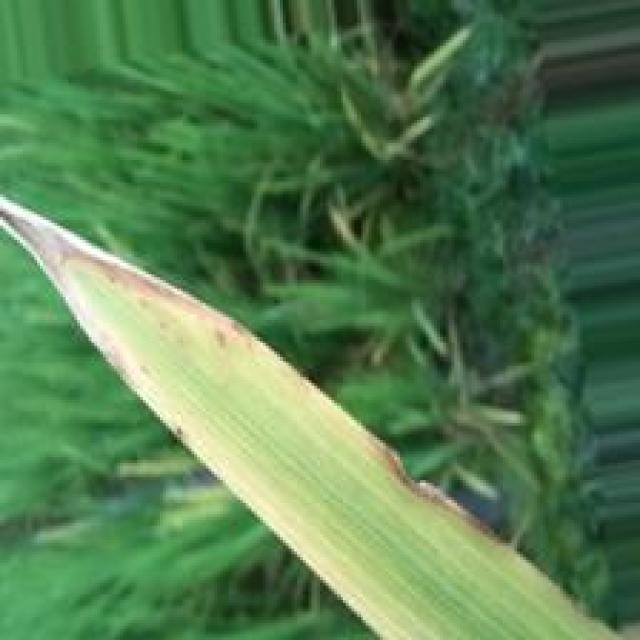Leaf_Scald: (0, 193, 265, 440), (342, 425, 509, 553)
